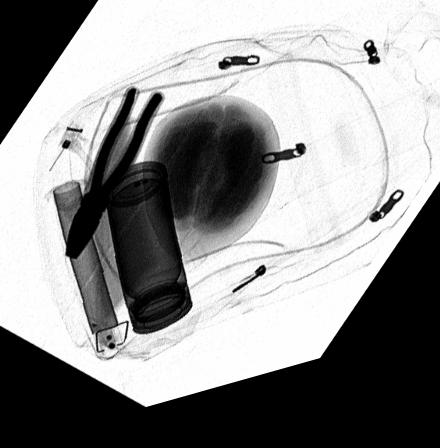Pliers: (60, 94, 165, 268)
